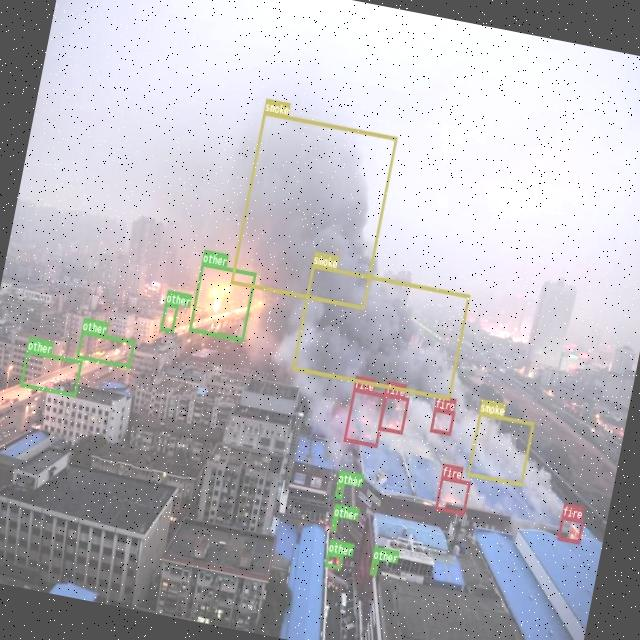fire: (344, 388, 386, 447), (434, 476, 470, 514), (377, 392, 409, 433), (556, 515, 584, 544), (430, 408, 454, 434)
smoke: (230, 110, 397, 308), (292, 264, 470, 401), (467, 412, 534, 486)
